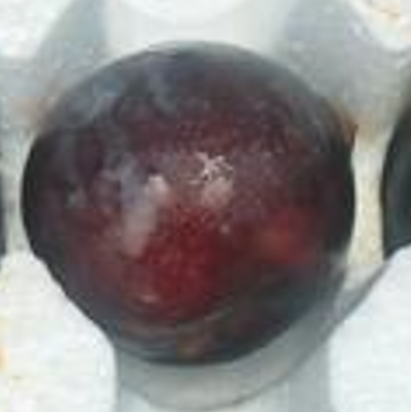plum_B: (18, 41, 356, 370)
